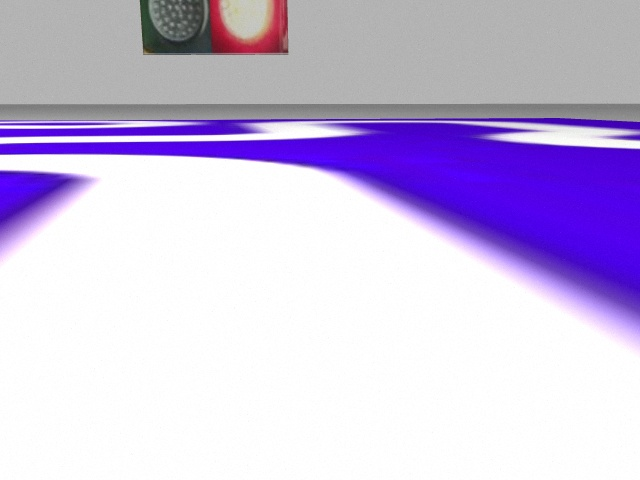red: (210, 2, 288, 56)
